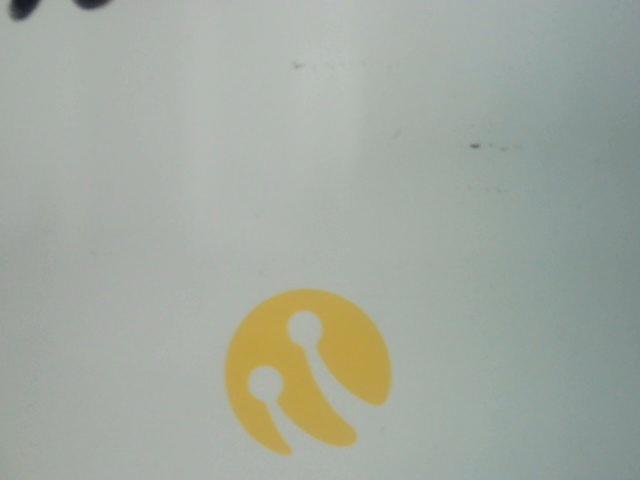AV_H3600Yellow: (206, 281, 395, 455)
